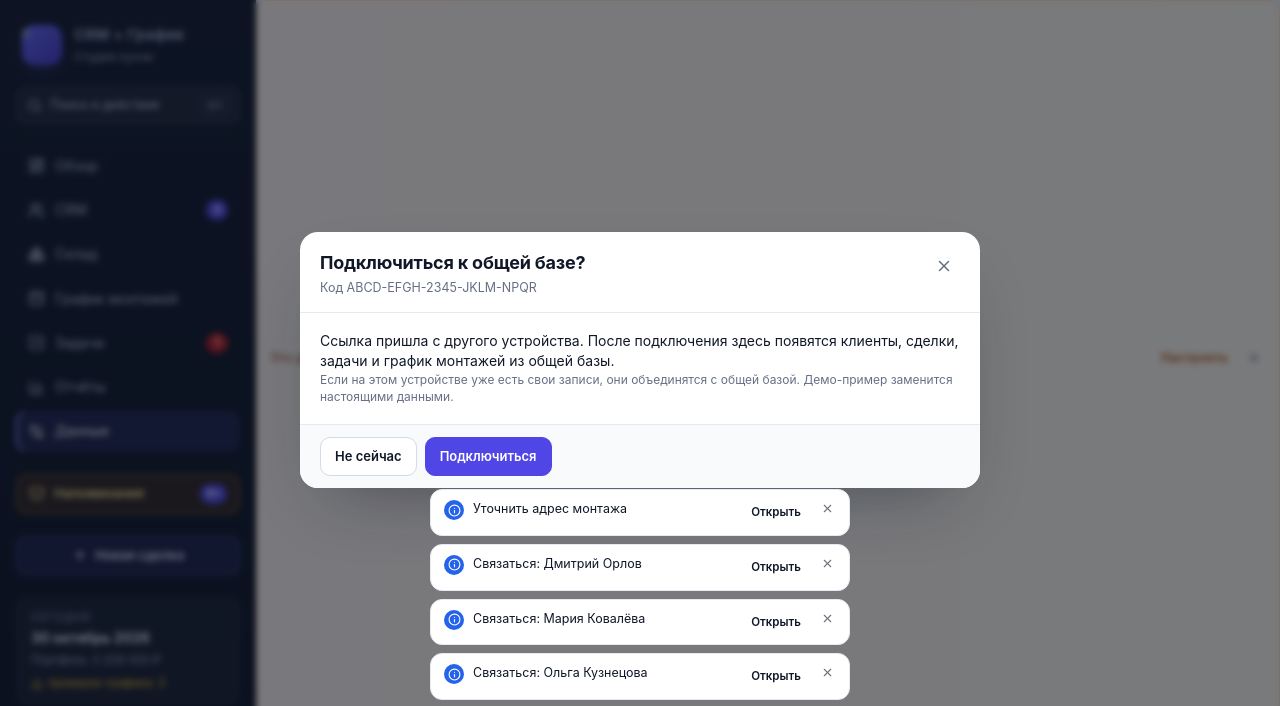
Test case: общая база в интерфейсе › подключается по ссылке с другого устройства и забирает его базу
Click the button "Подключиться".
click(488, 456)  # box [425,437,552,476]
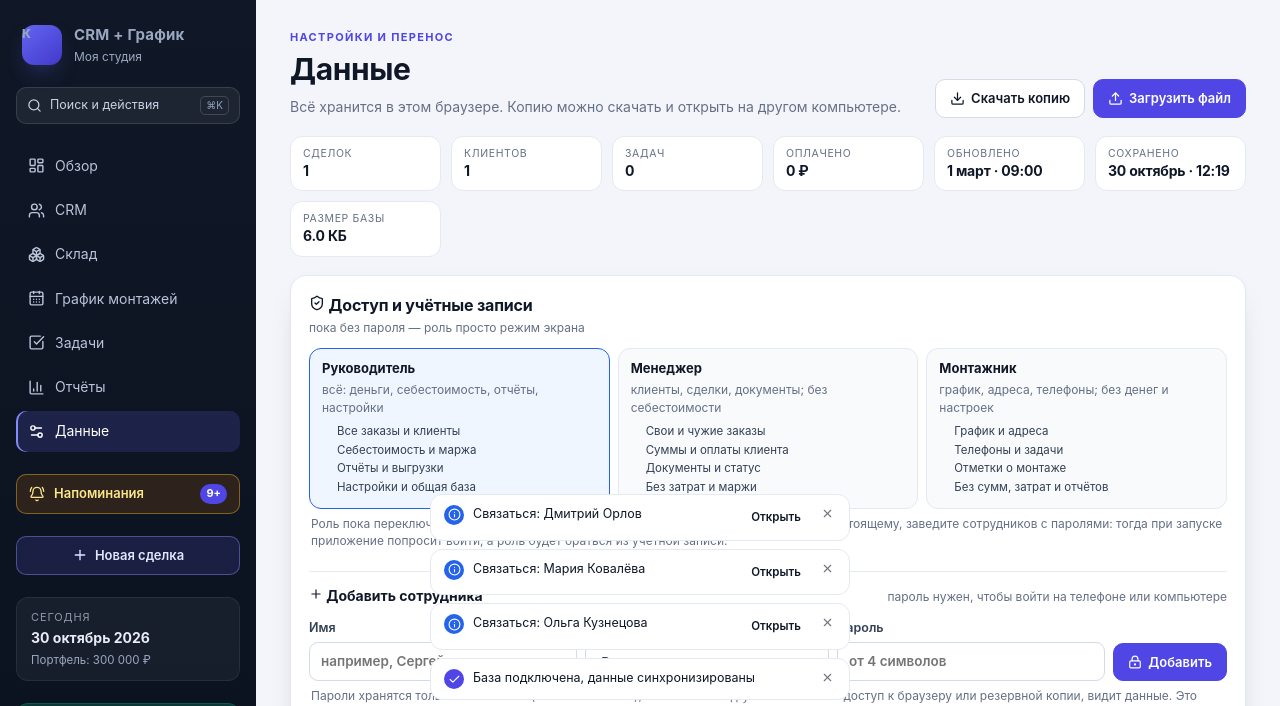
Данные компьютера оказались на этом устройстве.
Click the button "CRM".
click(128, 210)  # box [16,190,240,230]
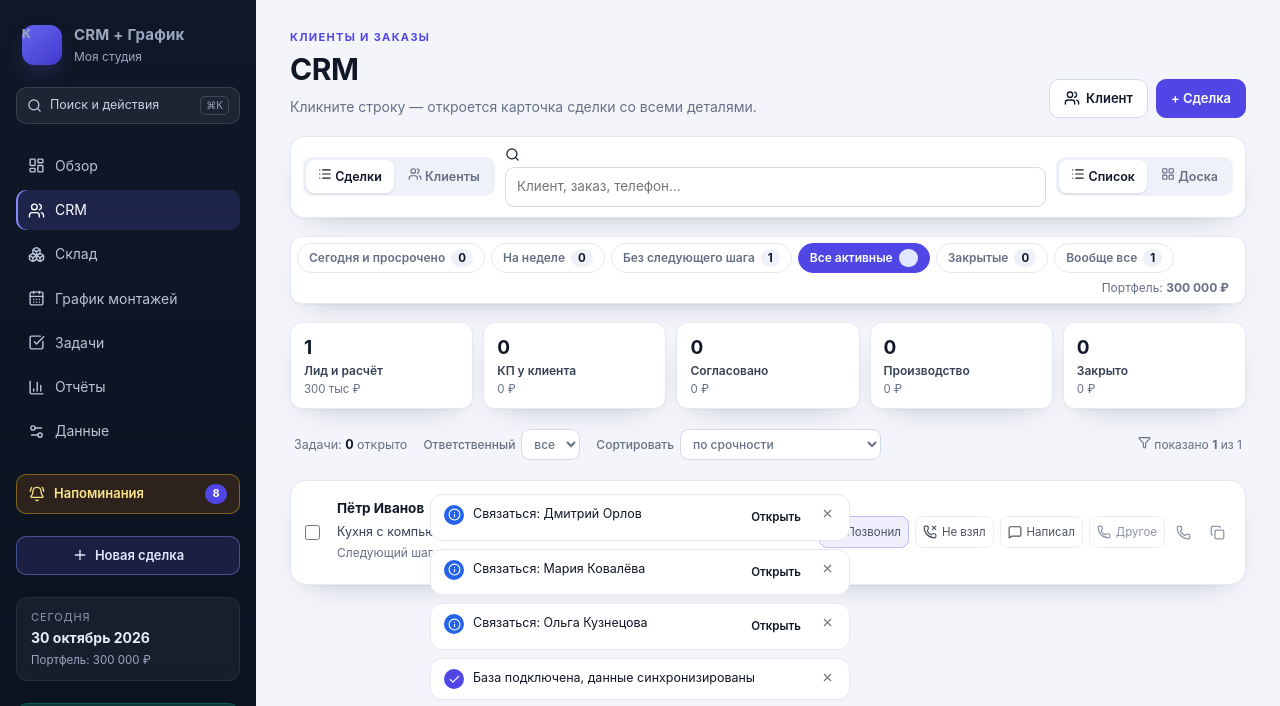
Expected: the text "Кухня с компьютера" is shown, [337,524,463,539]
Expected: the text "Пётр Иванов" is shown, [337,500,424,519]
